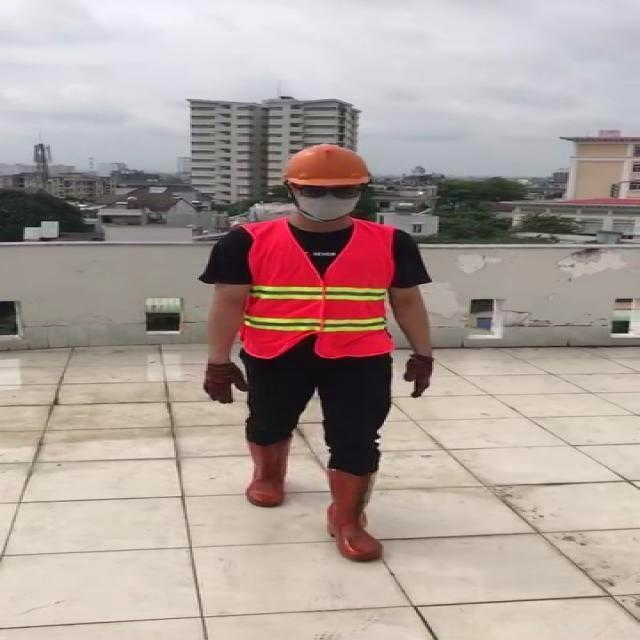Boots: (326, 469, 388, 562), (246, 434, 292, 508)
Helmet: (280, 142, 374, 188)
Person: (196, 140, 444, 568)
Vest: (242, 223, 392, 361)
